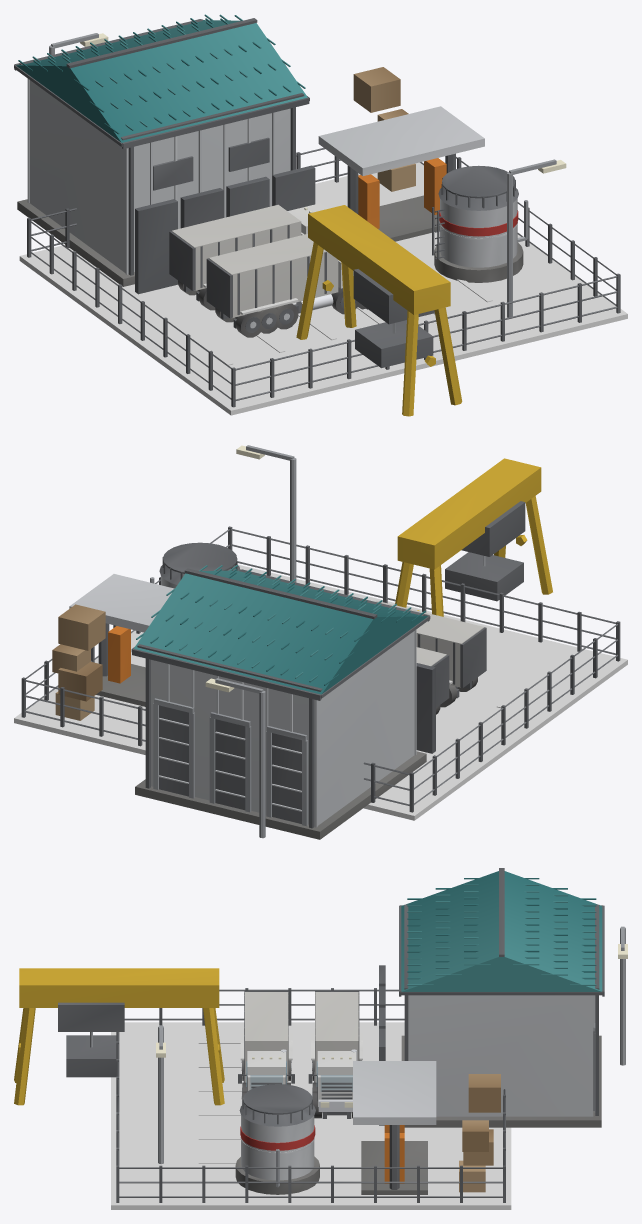
File: Fleet_P3.fbx
The picture shows the model from 3 angles, top to bottom: view 1: azimuth 30°, elevation 25°; view 2: azimuth 150°, elevation 25°; view 3: azimuth 270°, elevation 25°; orthographic projection. The views are drawn at different scales.
Parts seen in each view (by area): view 1: Fleet.Garage, Fleet.Yard, Fleet.WashGantry, Fleet.FuelIsland, Fleet.Parked0, Fleet.Fence, Fleet.FuelTank, Fleet.Doors, Fleet.Parked1, Fleet.Crates, Fleet.Lamp1, Fleet.Bays; view 2: Fleet.Garage, Fleet.Yard, Fleet.WashGantry, Fleet.Fence, Fleet.FuelIsland, Fleet.Crates, Fleet.Parked0, Fleet.FuelTank, Fleet.Doors, Fleet.Lamp0, Fleet.Lamp1, Fleet.Parked1; view 3: Fleet.Garage, Fleet.Yard, Fleet.WashGantry, Fleet.FuelIsland, Fleet.FuelTank, Fleet.Fence, Fleet.Parked1, Fleet.Parked0, Fleet.Crates, Fleet.Lamp1, Fleet.Lamp0, Fleet.Bays (+1 smaller).
Boxes of the visible parts, bbox=[...] form: Fleet.Garage: bbox=[14, 14, 309, 286]; Fleet.Yard: bbox=[19, 162, 627, 415]; Fleet.WashGantry: bbox=[296, 205, 462, 416]; Fleet.FuelIsland: bbox=[318, 106, 484, 241]; Fleet.Parked0: bbox=[206, 234, 367, 337]; Fleet.Fence: bbox=[27, 147, 620, 407]; Fleet.FuelTank: bbox=[432, 165, 528, 282]; Fleet.Doors: bbox=[135, 165, 315, 294]; Fleet.Parked1: bbox=[169, 203, 327, 310]; Fleet.Crates: bbox=[353, 67, 415, 191]; Fleet.Lamp1: bbox=[507, 159, 566, 317]; Fleet.Bays: bbox=[193, 279, 492, 365]; Fleet.Garage: bbox=[131, 565, 430, 839]; Fleet.Yard: bbox=[14, 564, 627, 820]; Fleet.WashGantry: bbox=[395, 458, 552, 616]; Fleet.Fence: bbox=[21, 526, 620, 812]; Fleet.FuelIsland: bbox=[69, 574, 174, 706]; Fleet.Crates: bbox=[52, 604, 105, 720]; Fleet.Parked0: bbox=[375, 600, 486, 707]; Fleet.FuelTank: bbox=[150, 542, 240, 588]; Fleet.Doors: bbox=[416, 663, 435, 753]; Fleet.Lamp0: bbox=[205, 678, 265, 838]; Fleet.Lamp1: bbox=[236, 445, 296, 582]; Fleet.Parked1: bbox=[416, 647, 449, 714]; Fleet.Garage: bbox=[399, 868, 604, 1127]; Fleet.Yard: bbox=[111, 1022, 511, 1209]; Fleet.WashGantry: bbox=[14, 968, 224, 1105]; Fleet.FuelIsland: bbox=[353, 1061, 436, 1194]; Fleet.FuelTank: bbox=[235, 1084, 319, 1194]; Fleet.Fence: bbox=[116, 988, 505, 1202]; Fleet.Parked1: bbox=[308, 991, 362, 1118]; Fleet.Parked0: bbox=[238, 991, 294, 1105]; Fleet.Crates: bbox=[459, 1074, 500, 1192]; Fleet.Lamp1: bbox=[156, 1025, 165, 1164]; Fleet.Lamp0: bbox=[618, 926, 627, 1065]; Fleet.Bays: bbox=[198, 1040, 241, 1163].
Size of the model in its own units: 2600 by 1183 by 3682.
